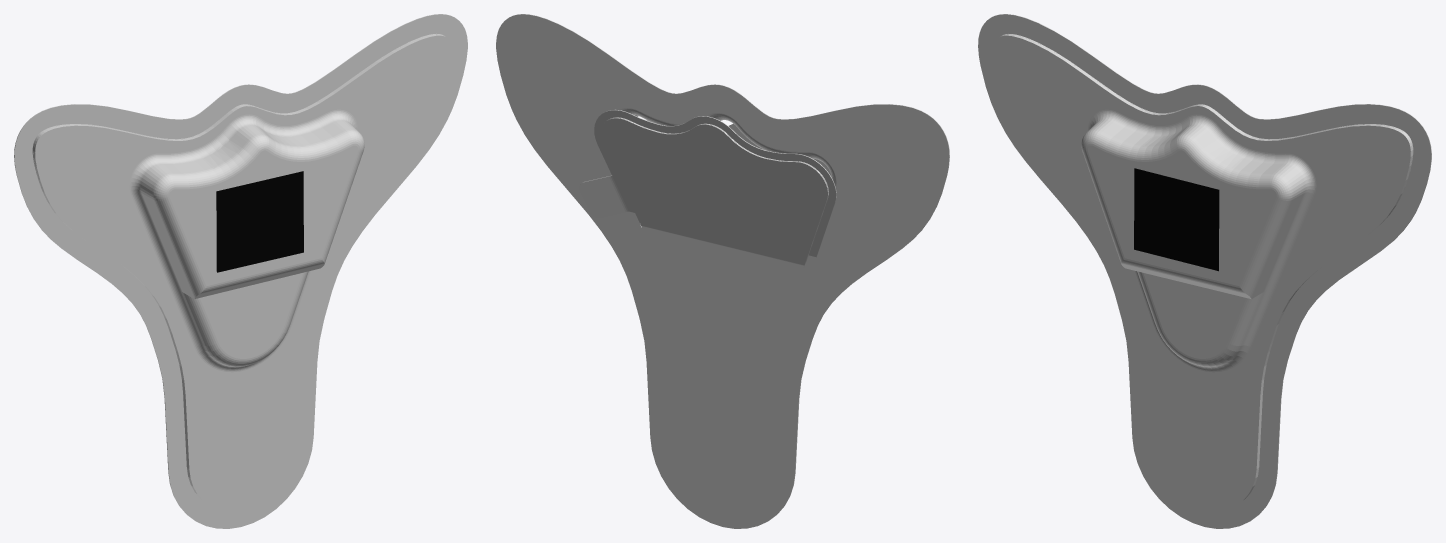
File: patchV1.glb
3 views of the same model, side by side, from view 1: azimuth 30°, elevation 25°; view 2: azimuth 150°, elevation 25°; view 3: azimuth 330°, elevation 25° (orthographic).
Visible parts, largest first — view 1: VS-100-E3, Icone_patch_Inomedis; view 2: VS-100-E3; view 3: VS-100-E3, Icone_patch_Inomedis.
Part boxes in pixels (x1,y1,x2,y2): VS-100-E3: (14,14,467,528); Icone_patch_Inomedis: (216,171,303,272); VS-100-E3: (496,14,949,528); VS-100-E3: (978,14,1431,528); Icone_patch_Inomedis: (1134,168,1219,271).
Size of the model in its own units: 1.25 by 1.23 by 0.1779.
2 materials, 1 textured.
